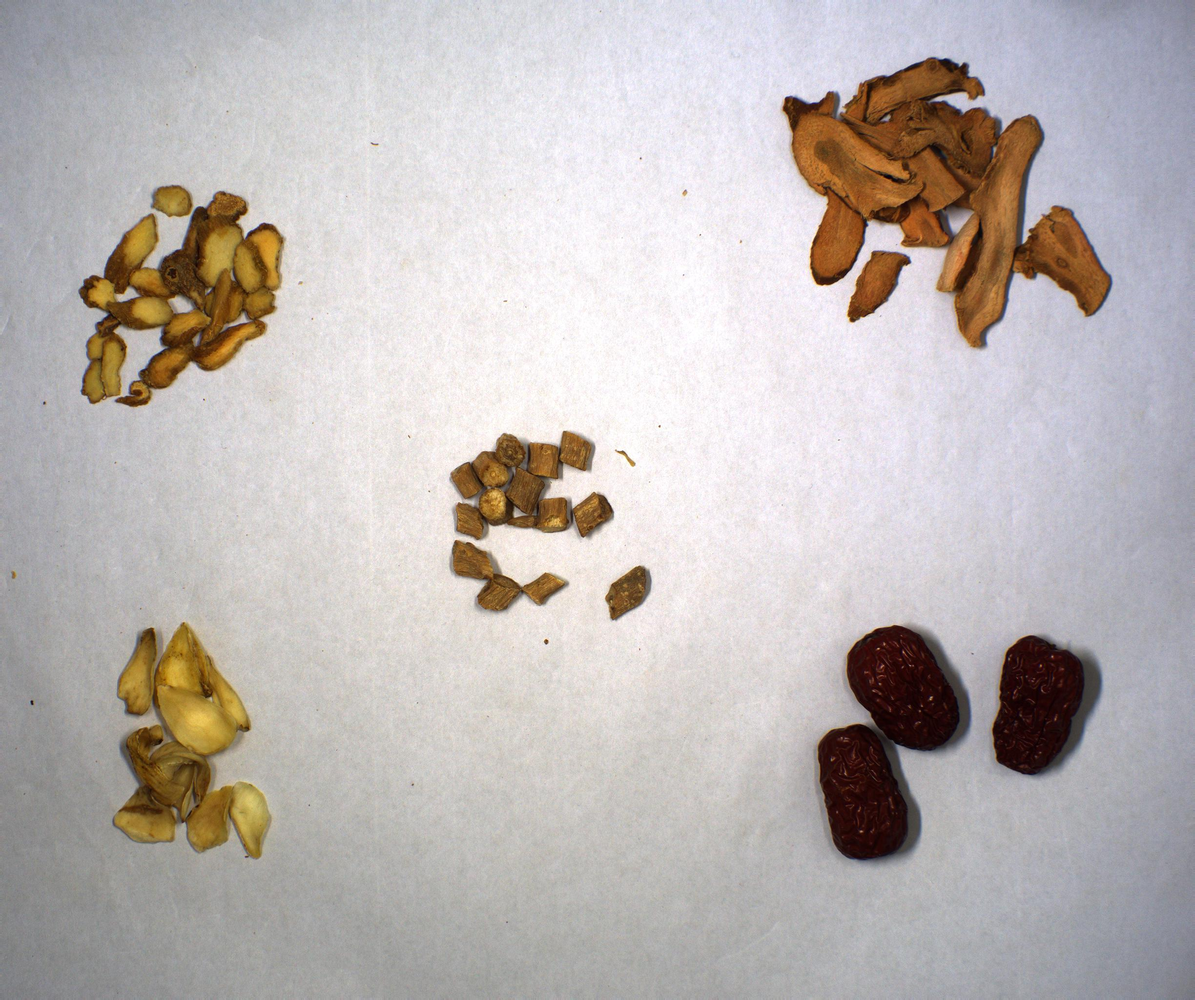baihe: (105, 619, 291, 866)
dazao: (805, 619, 1091, 870)
gaoliangjiang: (783, 54, 1116, 346)
niuxi: (443, 432, 654, 623)
yuzhu: (78, 180, 286, 409)
